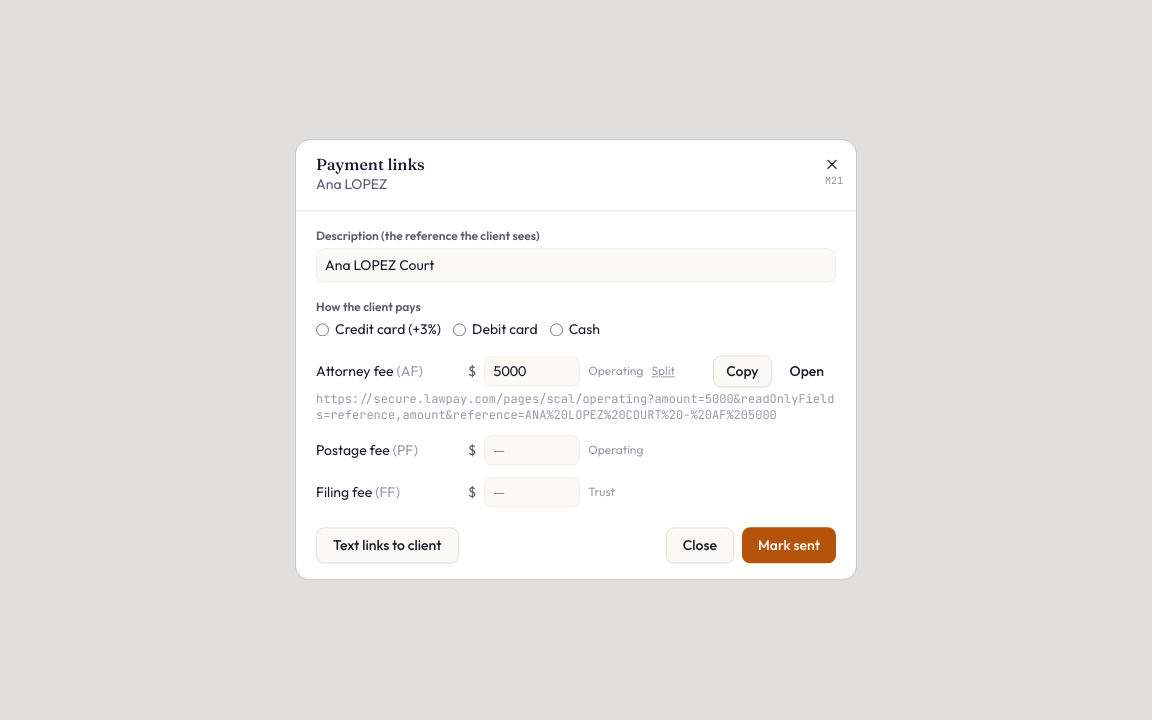
Test: PaymentLinksModal → Text links to client › a live text records Payment link sent
Click the button "Text links to client" at coordinates (387, 546), box left=316, top=528, right=458, bottom=564
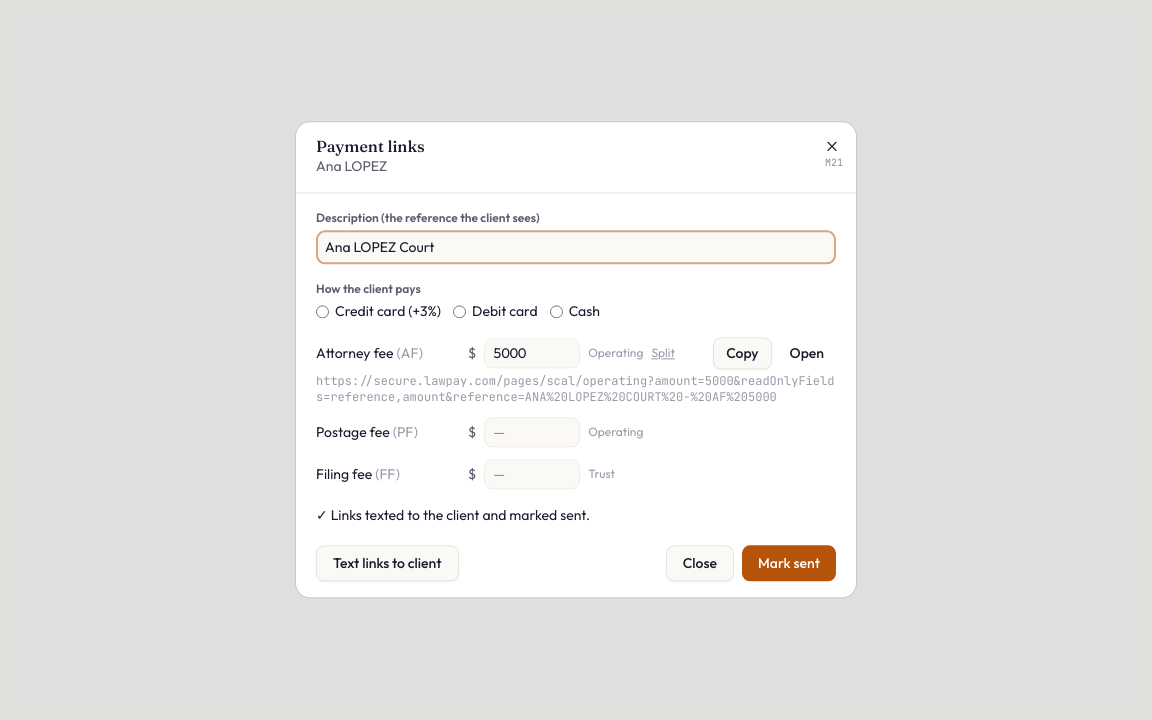
Check: the text "Links texted to the client and marked sent." is shown, box left=316, top=507, right=590, bottom=525
